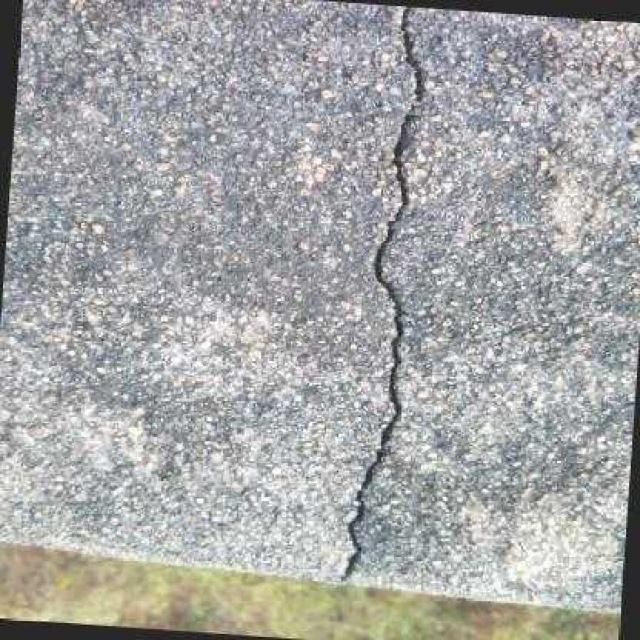D00: (338, 5, 426, 581)
